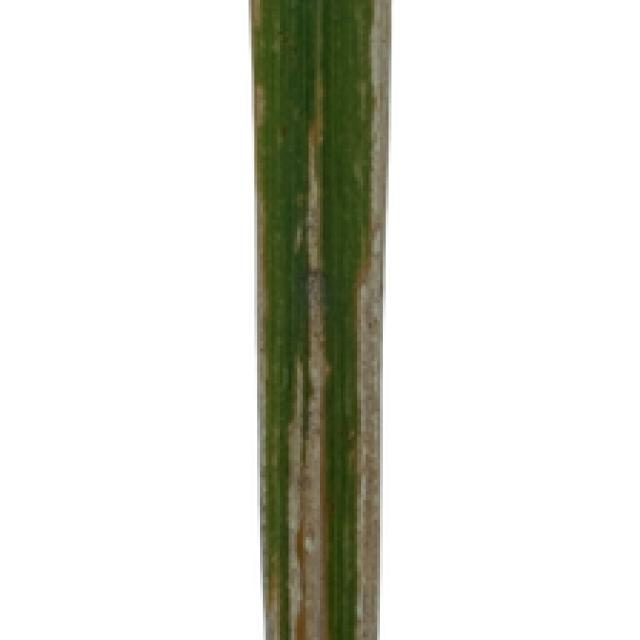Rice___Bacterial_Leaf_Blight: (248, 0, 393, 637)
